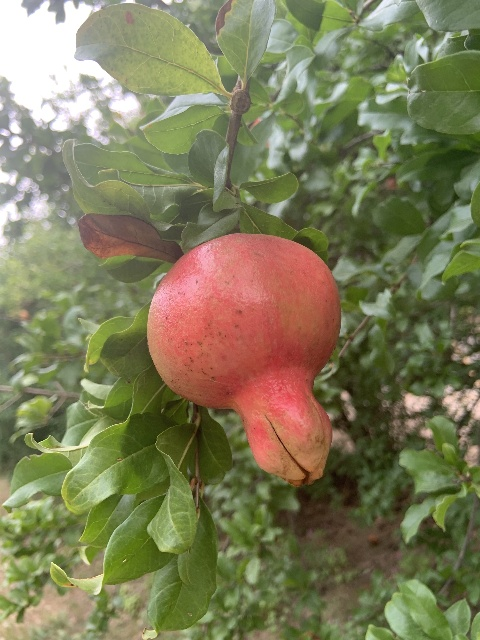ripe: (146, 233, 341, 484)
